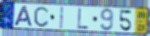5: (119, 9, 132, 32)
9: (100, 7, 115, 32)
A: (13, 6, 34, 28)
C: (33, 6, 50, 28)
I: (59, 6, 65, 30)
L: (77, 7, 90, 31)
